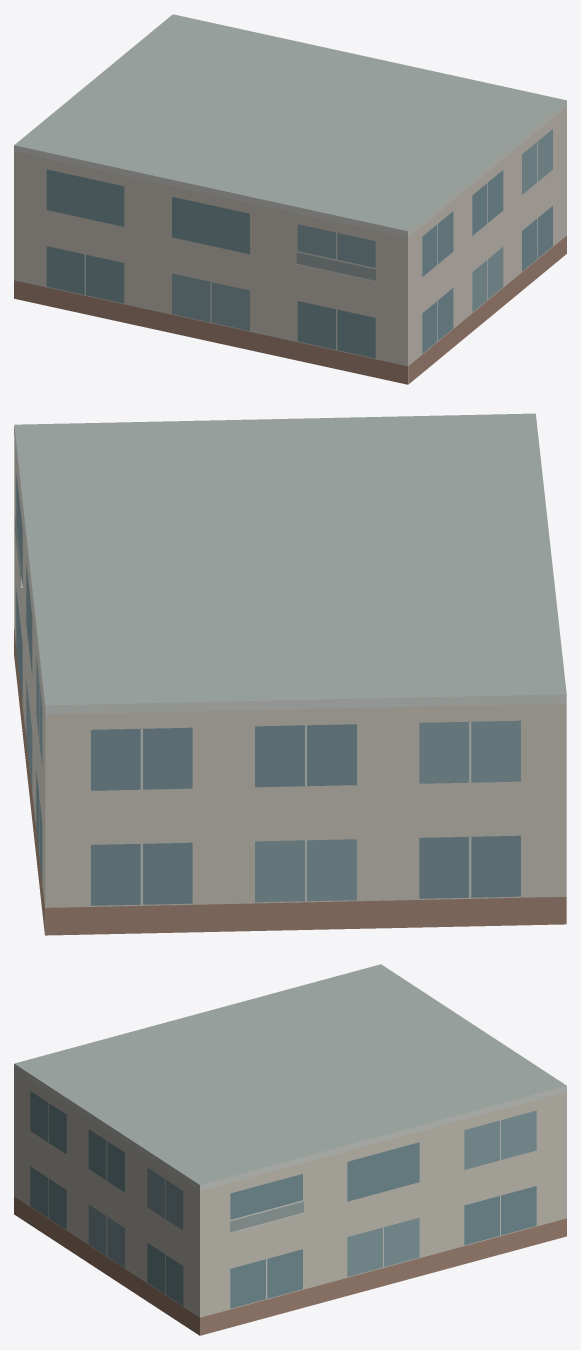
Rendered from survey-upis-32907479.glb.
The picture shows the model from 3 angles, top to bottom: view 1: azimuth 30°, elevation 25°; view 2: azimuth 150°, elevation 25°; view 3: azimuth 270°, elevation 25°; orthographic projection. The views are drawn at different scales.
Parts seen in each view (by area): view 1: survey-upis-32907479.tmp; view 2: survey-upis-32907479.tmp; view 3: survey-upis-32907479.tmp.
Part boxes in pixels (<box>): survey-upis-32907479.tmp: <box>14,14,566,384</box>; survey-upis-32907479.tmp: <box>14,413,566,935</box>; survey-upis-32907479.tmp: <box>14,964,566,1335</box>.
Size of the model in its own units: 19.18 by 6.1 by 20.28.
